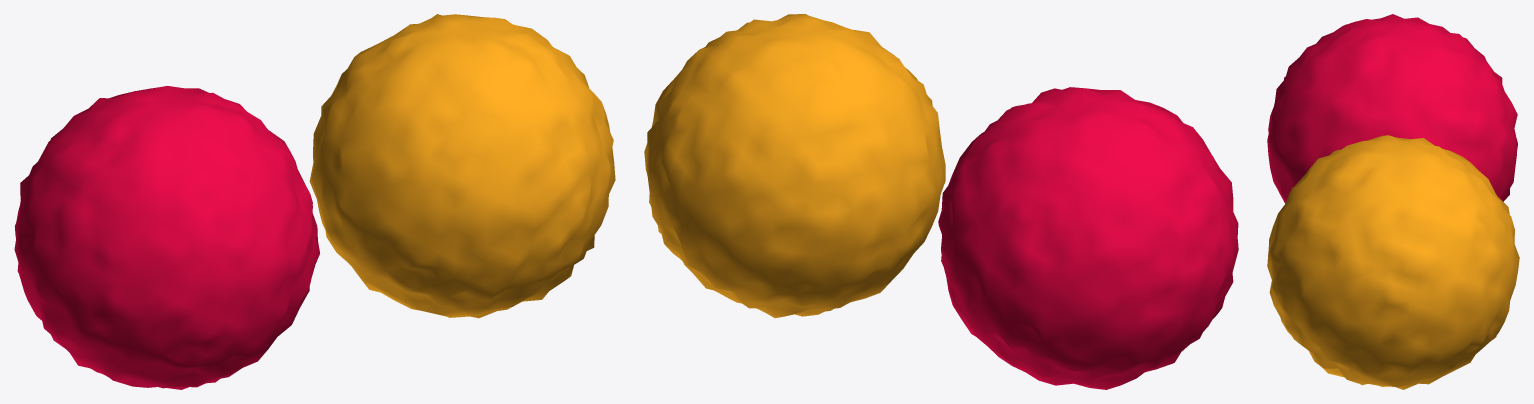
3 views of the same model, side by side, from view 1: azimuth 30°, elevation 25°; view 2: azimuth 150°, elevation 25°; view 3: azimuth 270°, elevation 25° (orthographic). The views are drawn at different scales.
Parts seen in each view (by area): view 1: Sphere_1, Sphere; view 2: Sphere, Sphere_1; view 3: Sphere_1, Sphere.
Boxes of the visible parts, left/top/right/bottom form: Sphere_1: left=309, top=14, right=615, bottom=318; Sphere: left=14, top=86, right=319, bottom=389; Sphere: left=938, top=87, right=1238, bottom=389; Sphere_1: left=644, top=14, right=945, bottom=317; Sphere_1: left=1267, top=135, right=1519, bottom=389; Sphere: left=1267, top=14, right=1517, bottom=203.
Bounding box in the file's own units: 432 × 201 × 203.
